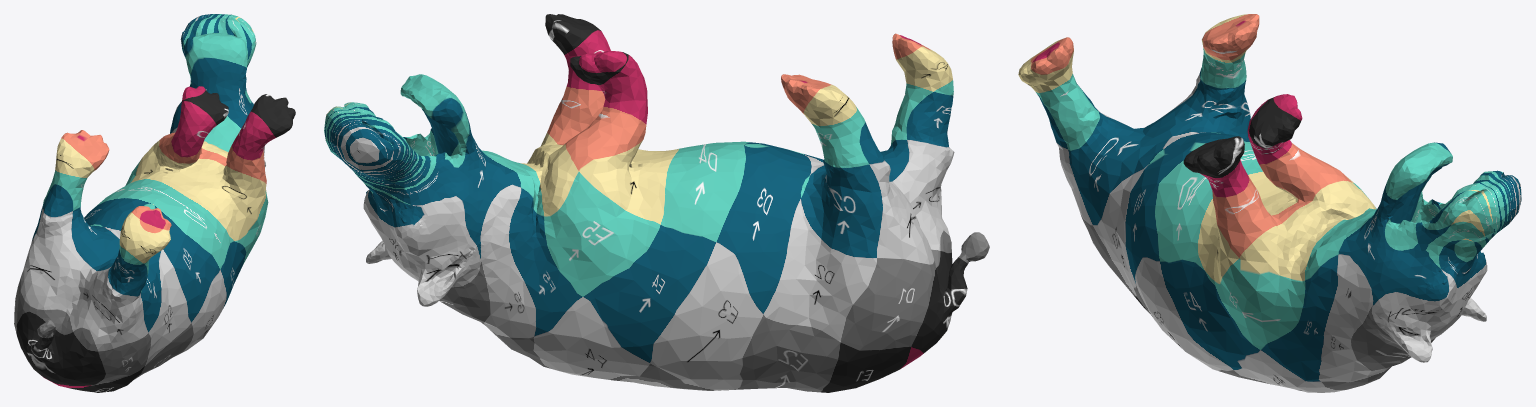
Rendered from horse_08-hippo_06.obj.
3 renders of one model, left to right at view 1: azimuth 30°, elevation 25°; view 2: azimuth 150°, elevation 25°; view 3: azimuth 270°, elevation 25°, orthographic. The views are drawn at different scales.
Visible parts, largest first — view 1: horse_08-hippo_06_export; view 2: horse_08-hippo_06_export; view 3: horse_08-hippo_06_export.
Boxes of the visible parts, left/top/right/bottom form: horse_08-hippo_06_export: left=14, top=14, right=295, bottom=392; horse_08-hippo_06_export: left=324, top=14, right=989, bottom=392; horse_08-hippo_06_export: left=1018, top=14, right=1521, bottom=392.
Bounding box in the file's own units: 0.7416 × 0.49 × 0.7229.
